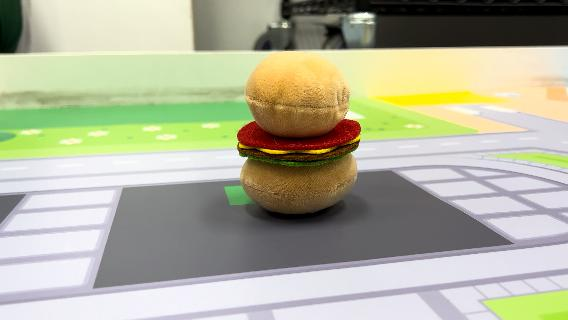burger: (234, 48, 365, 216)
